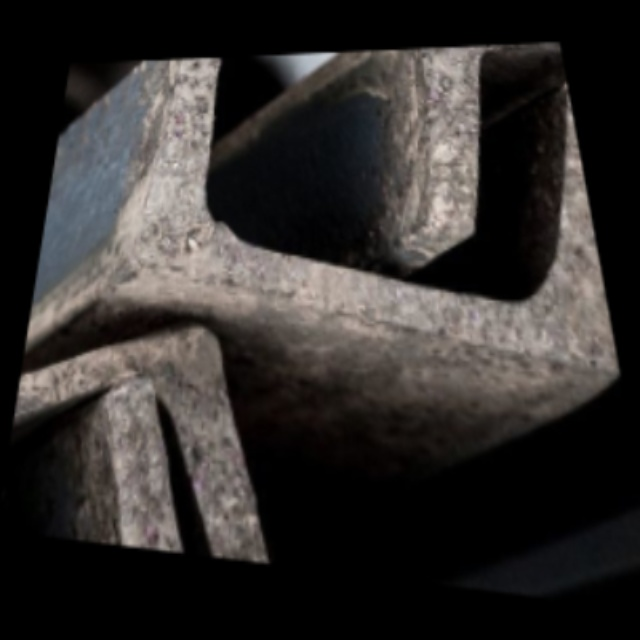Shveller: (125, 42, 621, 375), (0, 340, 275, 565), (418, 42, 611, 318), (0, 376, 218, 557)
